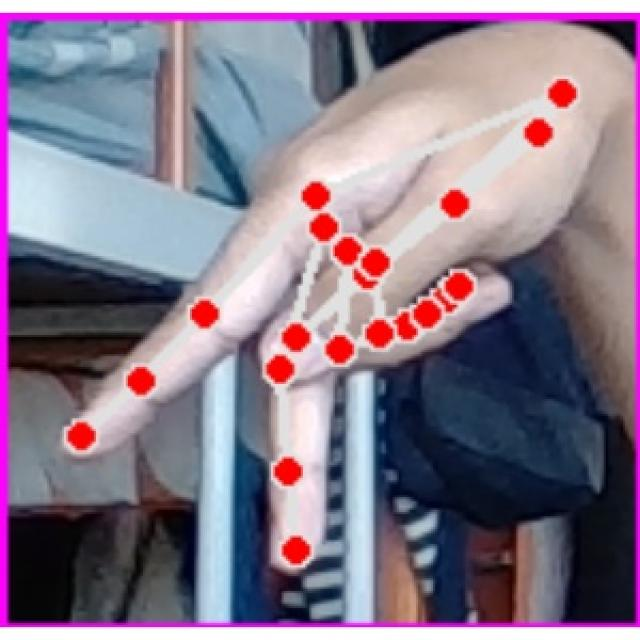P: (51, 24, 617, 579)
